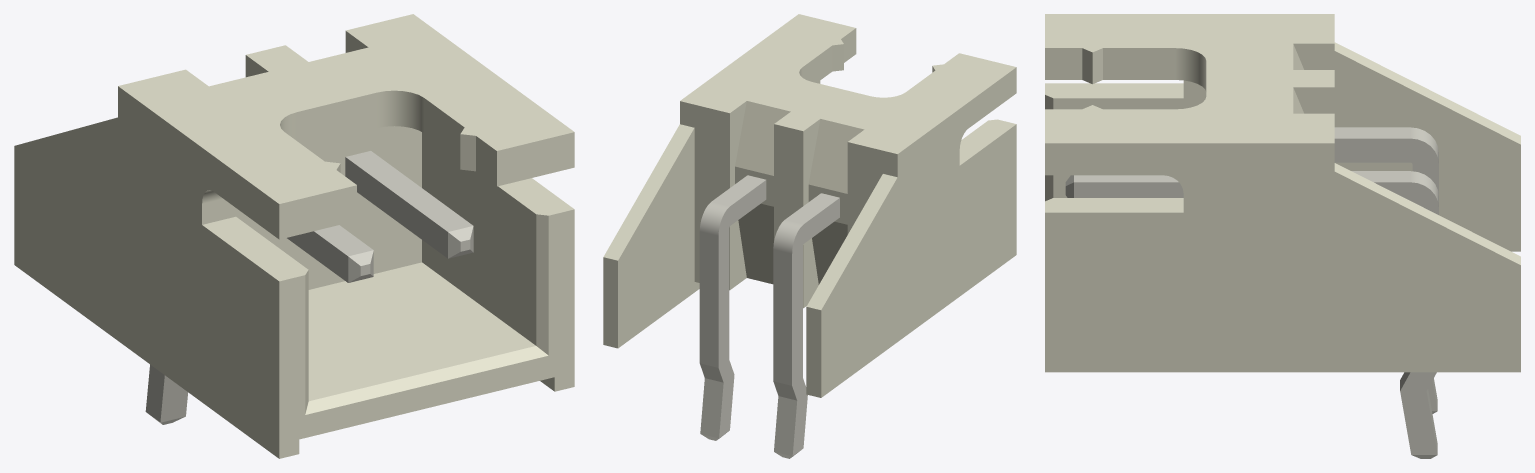
The model's file is Connector_JST__JST_XH_S2B-XH-A_1x02_P2.50mm_Horizontal.glb.
3 views of the same model, side by side, from view 1: azimuth 30°, elevation 25°; view 2: azimuth 150°, elevation 25°; view 3: azimuth 270°, elevation 25° (orthographic). The views are drawn at different scales.
Parts seen in each view (by area): view 1: JST_S2B_XH_A; view 2: JST_S2B_XH_A; view 3: JST_S2B_XH_A.
Part boxes in pixels (bbox=[...]): JST_S2B_XH_A: bbox=[14, 14, 574, 458]; JST_S2B_XH_A: bbox=[603, 14, 1016, 458]; JST_S2B_XH_A: bbox=[1045, 14, 1520, 458].
Bounding box in the file's own units: 0.0074 × 0.0095 × 0.0115.
